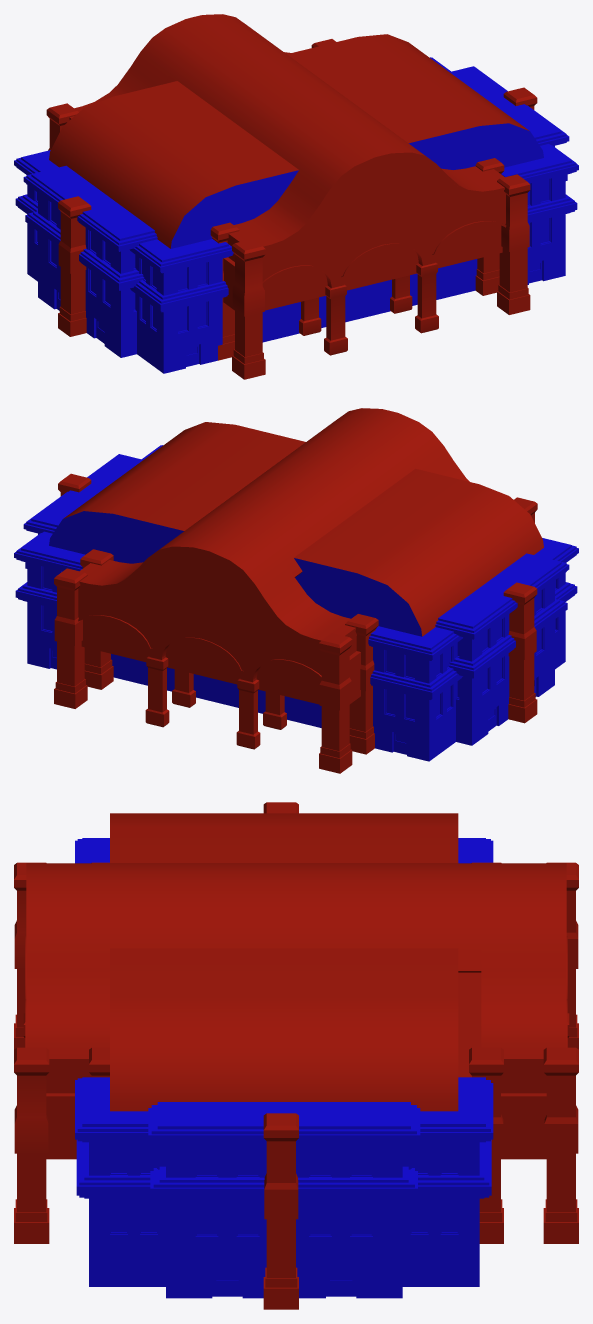
File: F_department_store_001.fbx
3 renders of one model, top to bottom at view 1: azimuth 30°, elevation 25°; view 2: azimuth 150°, elevation 25°; view 3: azimuth 270°, elevation 25°, orthographic. The views are drawn at different scales.
Parts seen in each view (by area): view 1: department_store_001; view 2: department_store_001; view 3: department_store_001.
Boxes of the visible parts, x1,y1,x2,y2 form: department_store_001: (14,14,578,379); department_store_001: (14,408,578,773); department_store_001: (14,802,578,1309).
Bounding box in the file's own units: 410 × 156 × 300.
